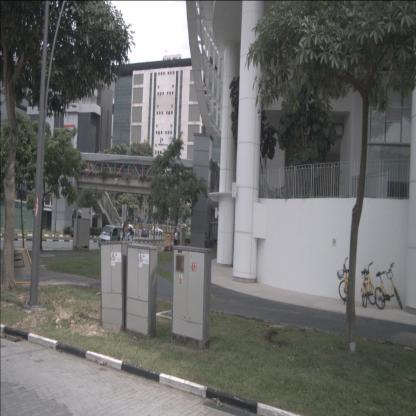human-pedestrian-adult: (174, 230, 178, 252), (204, 232, 208, 251), (209, 232, 212, 248), (110, 164, 113, 176)
vehicle-bicycle: (374, 262, 402, 310), (337, 256, 355, 304), (361, 262, 376, 308)
vehicle-car: (99, 224, 131, 249), (70, 222, 88, 237), (141, 228, 149, 238), (164, 220, 174, 228), (152, 226, 163, 233), (134, 216, 143, 224), (178, 221, 186, 228)
